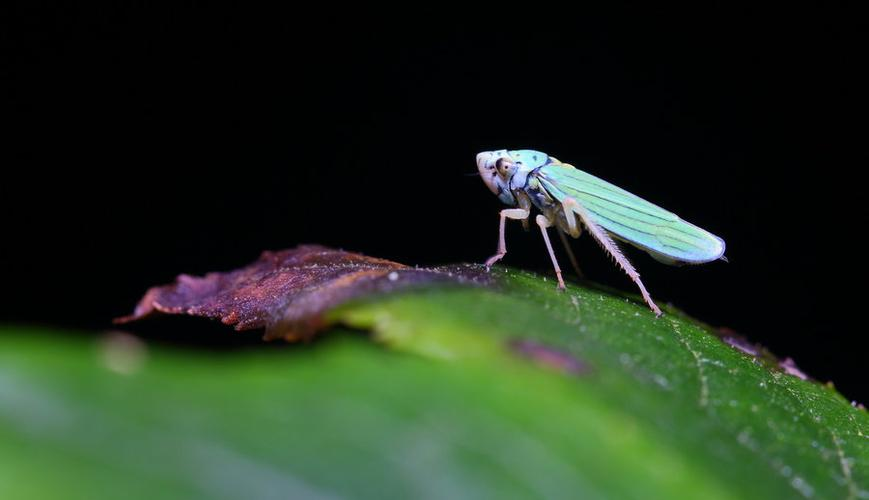Cicadellidae: (478, 145, 727, 323)
